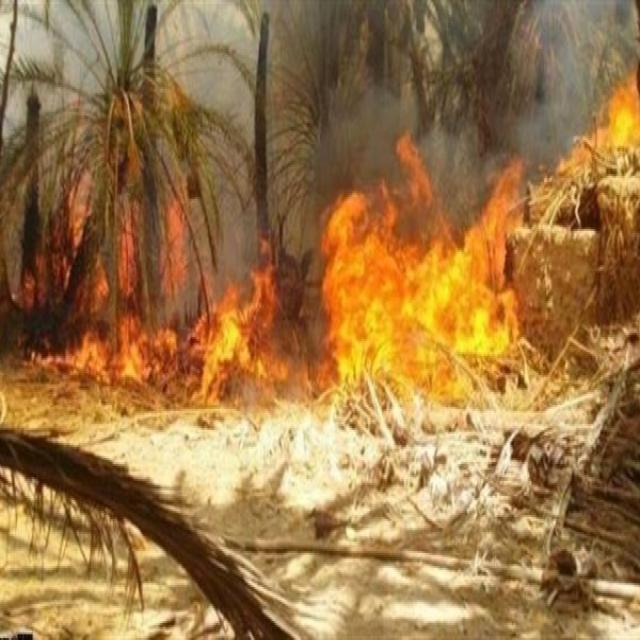Fire: (59, 112, 532, 436)
